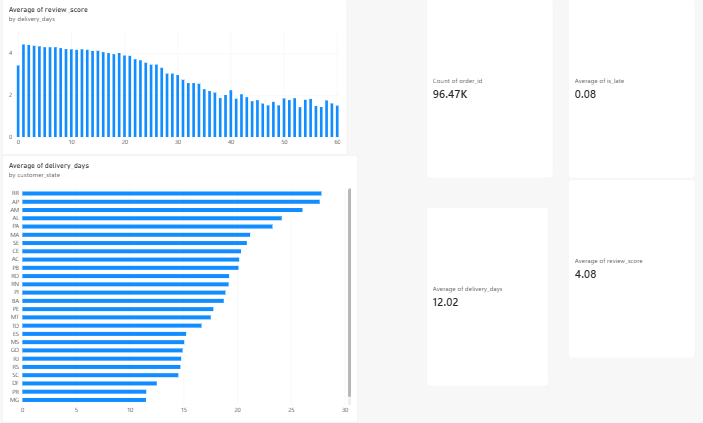

This screenshot's page, from the dashboard's own definition file:
{"tool":"powerbi","page":{"name":"Page 1","canvas":[1920,1080],"ordinal":0},"visuals":[{"type":"clusteredColumnChart","fields":{"Category":["orders_clean.delivery_days"],"Y":["Avg(orders_clean.review_score)"]},"box":[36.7,20,836.7,446.7],"z":0},{"type":"clusteredBarChart","fields":{"Category":["orders_clean.customer_state"],"Y":["Avg(orders_clean.delivery_days)"]},"box":[37.5,507.5,890,572.5],"z":1},{"type":"cardVisual","fields":{"Data":["Count(orders_clean.order_id)"]},"box":[928.3,20,318.3,448.3],"z":2},{"type":"cardVisual","fields":{"Data":["Avg(orders_clean.delivery_days)"]},"box":[940,540,306.7,448.3],"z":3},{"type":"cardVisual","fields":{"Data":["Avg(orders_clean.is_late)"]},"box":[1256,20,318,448],"z":4},{"type":"cardVisual","fields":{"Data":["Avg(orders_clean.review_score)"]},"box":[1246.7,508.3,318,448],"z":5}]}

Visuals, with their boxes on the page's 1920x1080 design canvas (x1, y1, x2, y2). These are canvas units, not pixel positions in the 703x423 screenshot, which may show the page scaled, cropped or inside an application window:
clusteredColumnChart - orders_clean.delivery_days x Avg(orders_clean.review_score): x1=37 y1=20 x2=873 y2=467
clusteredBarChart - orders_clean.customer_state x Avg(orders_clean.delivery_days): x1=38 y1=508 x2=928 y2=1080
cardVisual - Count(orders_clean.order_id): x1=928 y1=20 x2=1247 y2=468
cardVisual - Avg(orders_clean.delivery_days): x1=940 y1=540 x2=1247 y2=988
cardVisual - Avg(orders_clean.is_late): x1=1256 y1=20 x2=1574 y2=468
cardVisual - Avg(orders_clean.review_score): x1=1247 y1=508 x2=1565 y2=956
